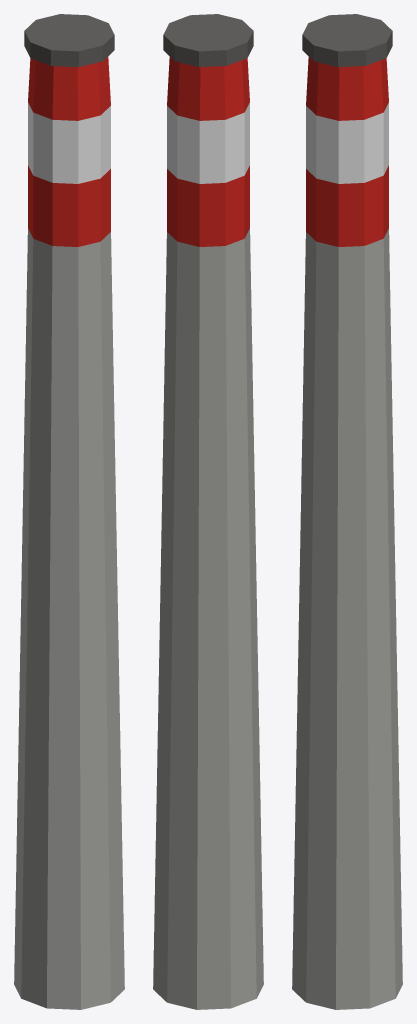
The model's file is chimenea_minera.obj.
The picture shows the model from 3 angles, left to right: view 1: azimuth 30°, elevation 25°; view 2: azimuth 150°, elevation 25°; view 3: azimuth 330°, elevation 25°; orthographic projection.
Parts seen in each view (by area): view 1: chimenea_minera; view 2: chimenea_minera; view 3: chimenea_minera.
Part boxes in pixels (left/top/right/bottom): chimenea_minera: left=14, top=14, right=124, bottom=1009; chimenea_minera: left=153, top=14, right=263, bottom=1009; chimenea_minera: left=292, top=14, right=402, bottom=1009.
Bounding box in the file's own units: 6.4 × 60.5 × 6.09.
